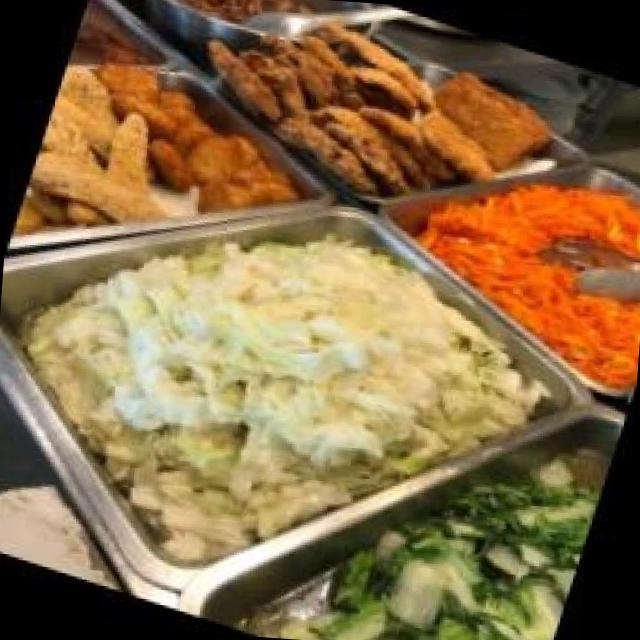carrot_eggs: (460, 170, 640, 362)
chinese_cabbage: (114, 239, 428, 494)
fried_chicken: (183, 0, 515, 220)
triangle_hash_brown: (140, 110, 299, 217)
